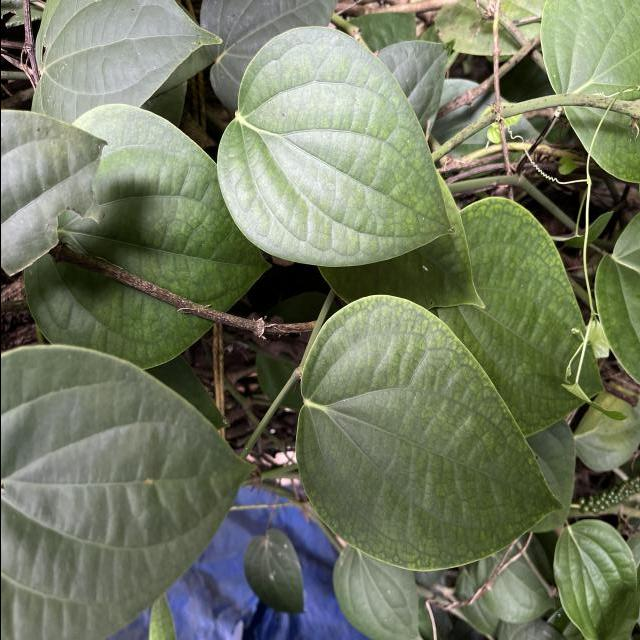Piper nigrum: (292, 294, 564, 574), (215, 26, 457, 270)
